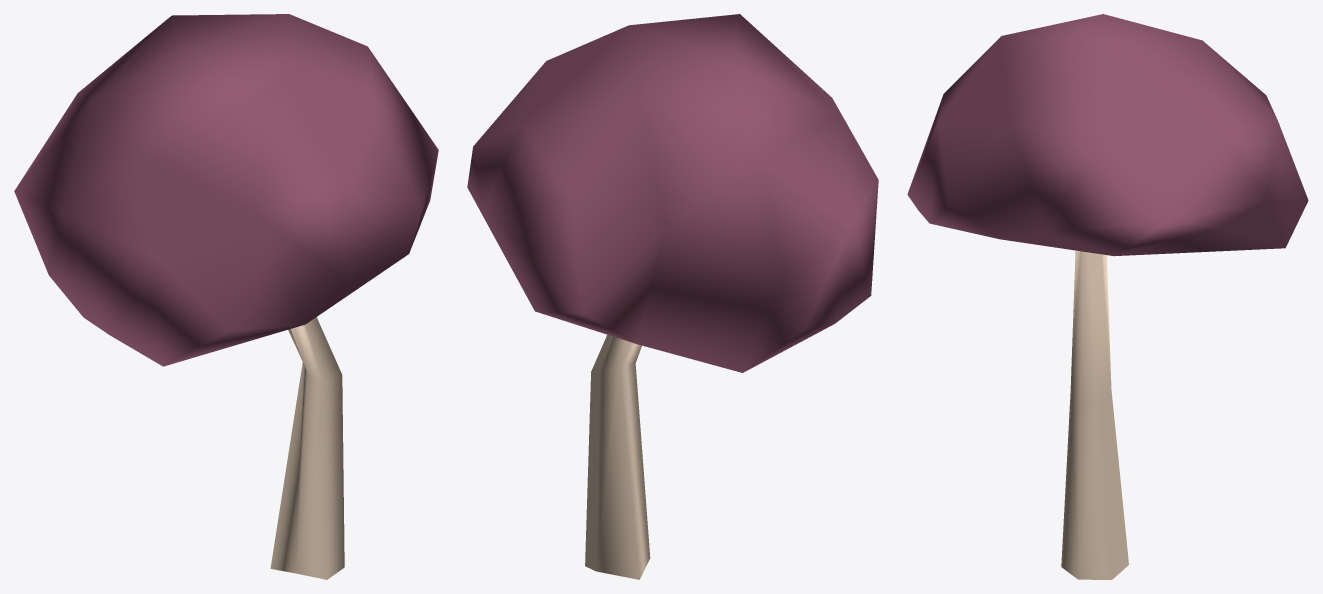
Rendered from Mushroom.fbx.
3 renders of one model, left to right at view 1: azimuth 30°, elevation 25°; view 2: azimuth 150°, elevation 25°; view 3: azimuth 270°, elevation 25°, orthographic. The views are drawn at different scales.
Parts seen in each view (by area): view 1: Mushroom; view 2: Mushroom; view 3: Mushroom.
Part boxes in pixels (x1,y1,x2,y2): Mushroom: (14, 14, 438, 579); Mushroom: (467, 14, 878, 579); Mushroom: (907, 14, 1308, 579).
Bounding box in the file's own units: 42.22 × 64.04 × 45.24.
